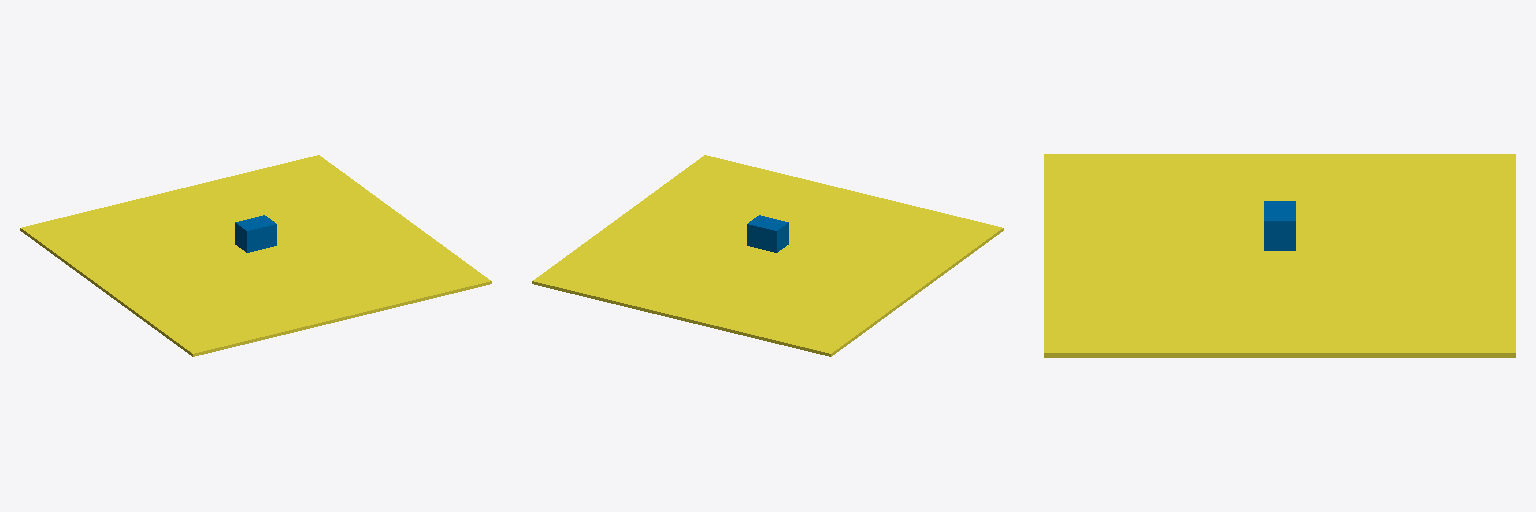
URDF robot description (velma):
<?xml version="1.0" ?>
<!-- =================================================================================== -->
<!-- |    This document was autogenerated by xacro from src/barrett_hand_sim_dart/scenes/pinch.urdf.xacro | -->
<!-- |    EDITING THIS FILE BY HAND IS NOT RECOMMENDED                                 | -->
<!-- =================================================================================== -->
<robot name="velma" xmlns:controller="http://playerstage.sourceforge.net/gazebo/xmlschema/#controller" xmlns:geom="http://playerstage.sourceforge.net/gazebo/xmlschema/#geom" xmlns:interface="http://playerstage.sourceforge.net/gazebo/xmlschema/#interface" xmlns:sensor="http://playerstage.sourceforge.net/gazebo/xmlschema/#sensor" xmlns:xacro="http://www.ros.org/wiki/xacro">
  <material name="DarkGrey">
    <color rgba="0.3 0.3 0.3 1.0"/>
  </material>
  <material name="Red">
    <color rgba="0.3 0.3 0.3 1.0"/>
  </material>
  <material name="Black">
    <color rgba="0 0 0 1.0"/>
  </material>
  <material name="Orange">
    <color rgba="1.0 0.487 0 1.0"/>
  </material>
  <material name="Silver">
    <color rgba="1.0 1.0 1.0 1.0"/>
  </material>
  <material name="Grey">
    <color rgba="0.7 0.7 0.7 1.0"/>
  </material>
  <material name="Blue">
    <color rgba="0.0 0.0 0.8 1.0"/>
  </material>
  <material name="HandGray">
    <color rgba="0.953 0.996 0.694 1.0"/>
  </material>
  <material name="SickBlue">
    <color rgba="0.3058 0.5921 0.7294 1.0"/>
  </material>
  <link name="world"/>
  <!-- static connection between the world frame and the map frame -->
  <link name="map"/>
  <joint name="world_map_joint" type="fixed">
    <origin rpy="0 0 0" xyz="0 0 0"/>
    <parent link="world"/>
    <child link="map"/>
  </joint>
  <!-- the gripper -->
  <joint name="map_gripper_joint" type="fixed">
    <origin rpy="3.14159265359 0 0" xyz="0.0 0.0 0.22"/>
    <parent link="map"/>
    <child link="gripper_mount_link"/>
  </joint>
  <link name="gripper_mount_link">
  </link>
  <!--
  <xacro:barret_hand prefix="right" parent="gripper_mount_link">
    <origin xyz="0.0 0.0 0.0" rpy="0 0 0"/>
  </xacro:barret_hand>
-->
  <!-- the scene -->
  <joint name="map_plane_joint" type="fixed">
    <origin rpy="0 0 0" xyz="0 0 0"/>
    <parent link="map"/>
    <child link="plane"/>
  </joint>
  <link name="plane">
    <inertial>
      <origin xyz="0.00035500 -0.00499005 0.04864979"/>
      <mass value="0.63352875"/>
      <inertia ixx="0.00102103" ixy="0.00000775" ixz="-0.00001230" iyy="0.00080944" iyz="-0.00014417" izz="0.00068788"/>
    </inertial>
    <visual>
      <origin rpy="0 0 0" xyz="0 0 0"/>
      <geometry>
        <mesh filename="package://barrett_hand_sim_dart/meshes/plane.stl"/>
      </geometry>
    </visual>
    <collision>
      <origin rpy="0 0 0" xyz="0 0 0"/>
      <geometry>
        <mesh filename="package://barrett_hand_sim_dart/meshes/plane.stl"/>
      </geometry>
    </collision>
  </link>
  <!-- the graspable object -->
  <joint name="map_graspable_joint" type="floating">
    <origin rpy="0 0 0" xyz="0.0 0.0 0.07"/>
    <parent link="map"/>
    <child link="graspable"/>
  </joint>
  <link name="graspable">
    <inertial>
      <origin xyz="0.00035500 -0.00499005 0.04864979"/>
      <mass value="0.63352875"/>
      <inertia ixx="0.00102103" ixy="0.00000775" ixz="-0.00001230" iyy="0.00080944" iyz="-0.00014417" izz="0.00068788"/>
    </inertial>
    <visual>
      <origin rpy="0 0 0" xyz="0 0 0"/>
      <geometry>
        <mesh filename="package://barrett_hand_sim_dart/meshes/cuboid.stl"/>
      </geometry>
    </visual>
    <collision>
      <origin rpy="0 0 0" xyz="0 0 0"/>
      <geometry>
        <mesh filename="package://barrett_hand_sim_dart/meshes/cuboid.stl"/>
      </geometry>
    </collision>
  </link>
</robot>

--- What the picture shows (computed from the rendered views, not written in the file) ---
3 views of the same robot in one strip: view 1: azimuth 30°, elevation 25°; view 2: azimuth 150°, elevation 25°; view 3: azimuth 270°, elevation 25° (orthographic).
Robot: velma — 5 links, 4 joints (3 fixed, 1 floating); root link world; default pose: every joint at zero.
Visible links, largest first — view 1: plane, graspable; view 2: plane, graspable; view 3: plane, graspable.
Link boxes in pixels (x1,y1,x2,y2): plane: (20,155,491,356); graspable: (235,215,276,252); plane: (532,155,1003,356); graspable: (747,215,788,252); plane: (1044,154,1515,357); graspable: (1264,201,1295,250).
Size in the robot's own frame: 1 by 1 by 0.11 metres.
2 mesh visuals loaded from 2 distinct referenced files (2 binary STL).